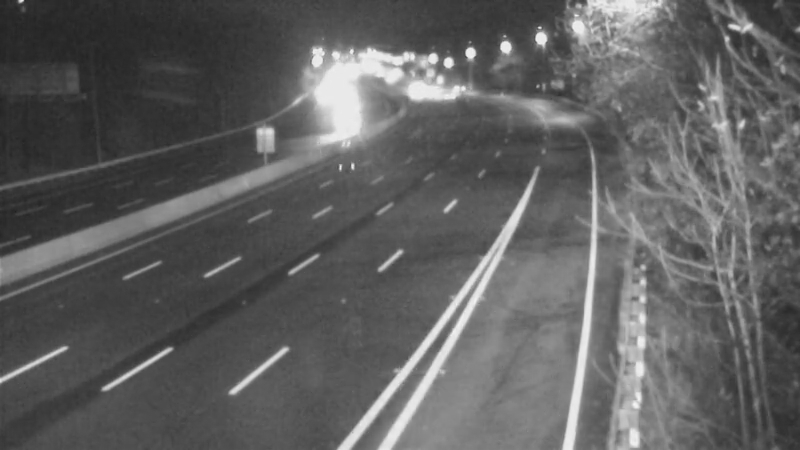vehicle: (321, 99, 371, 149)
